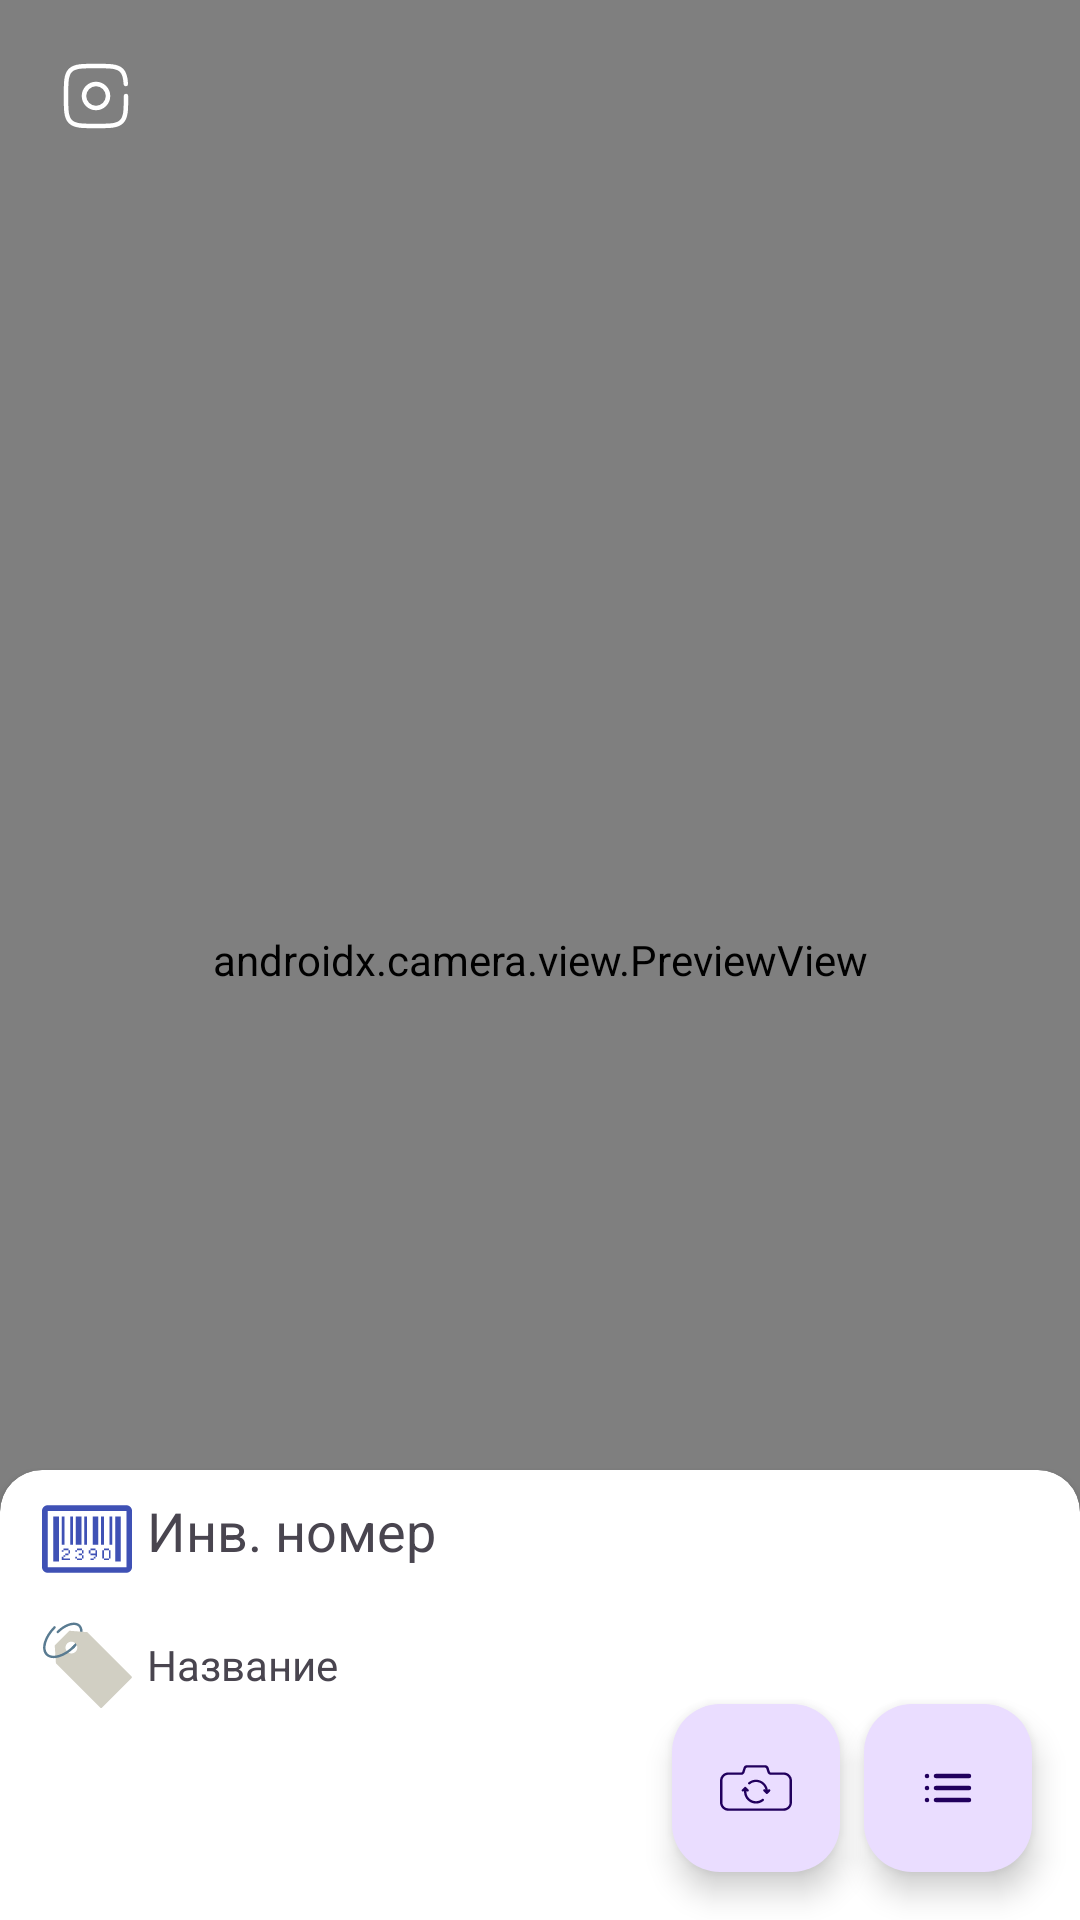

Where icons sit on this 1080 x 1920 app screen, as box(x1, y1, x2, y2):
list pointers: box(864, 1704, 1032, 1872)
rotate camera: box(672, 1704, 840, 1872)
